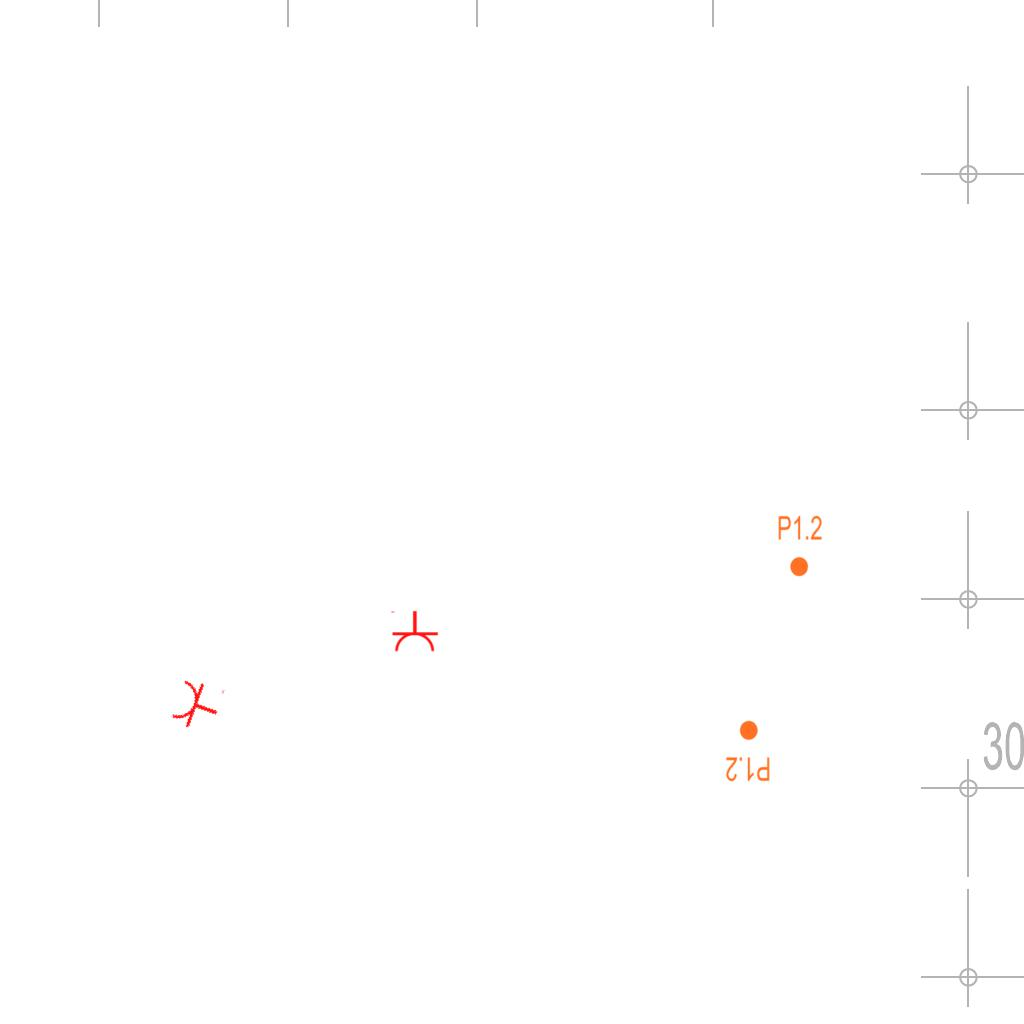Downlight_LED_Einbauleuchten_Flur: (725, 719, 771, 783), (777, 514, 823, 578)
Schukosteckdose_einfach: (168, 674, 227, 736), (389, 610, 439, 653)
